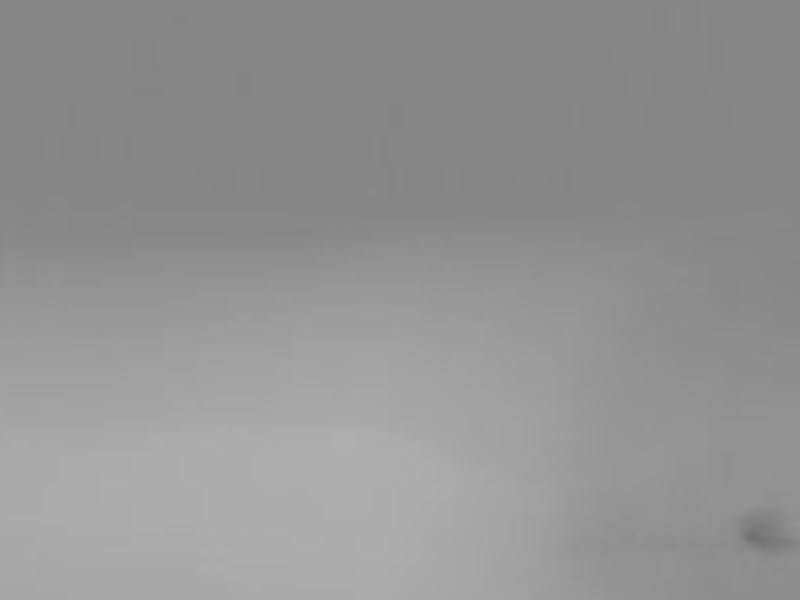defect: (740, 503, 789, 553)
